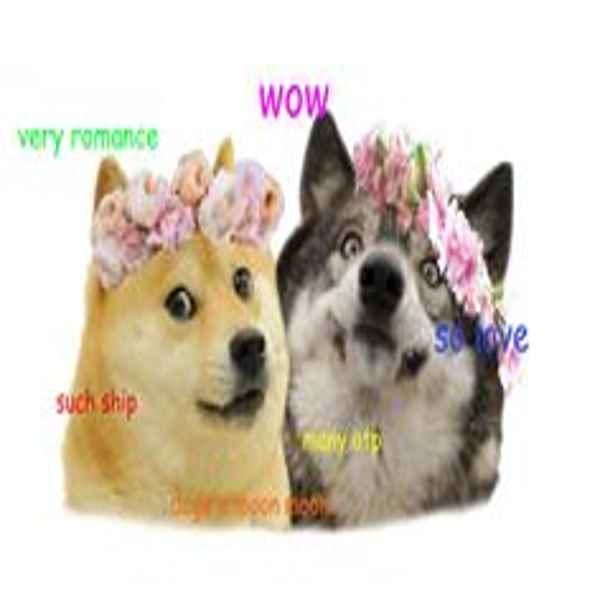doge: (87, 241, 291, 454)
